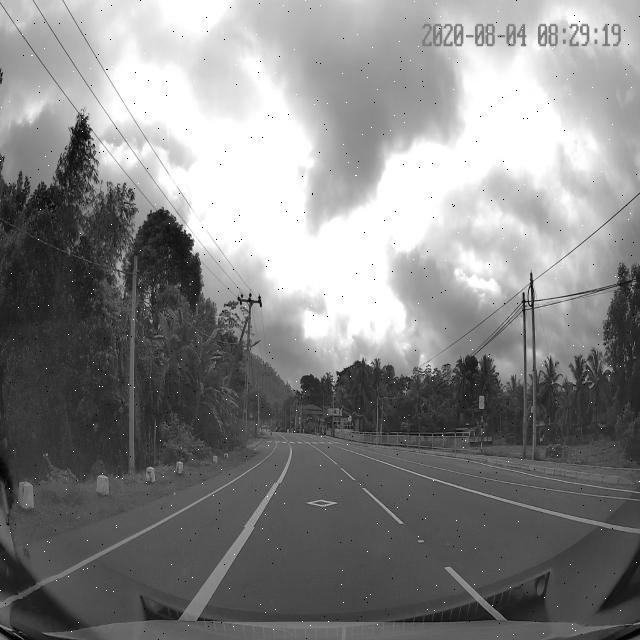diamond: (244, 484, 404, 527)
